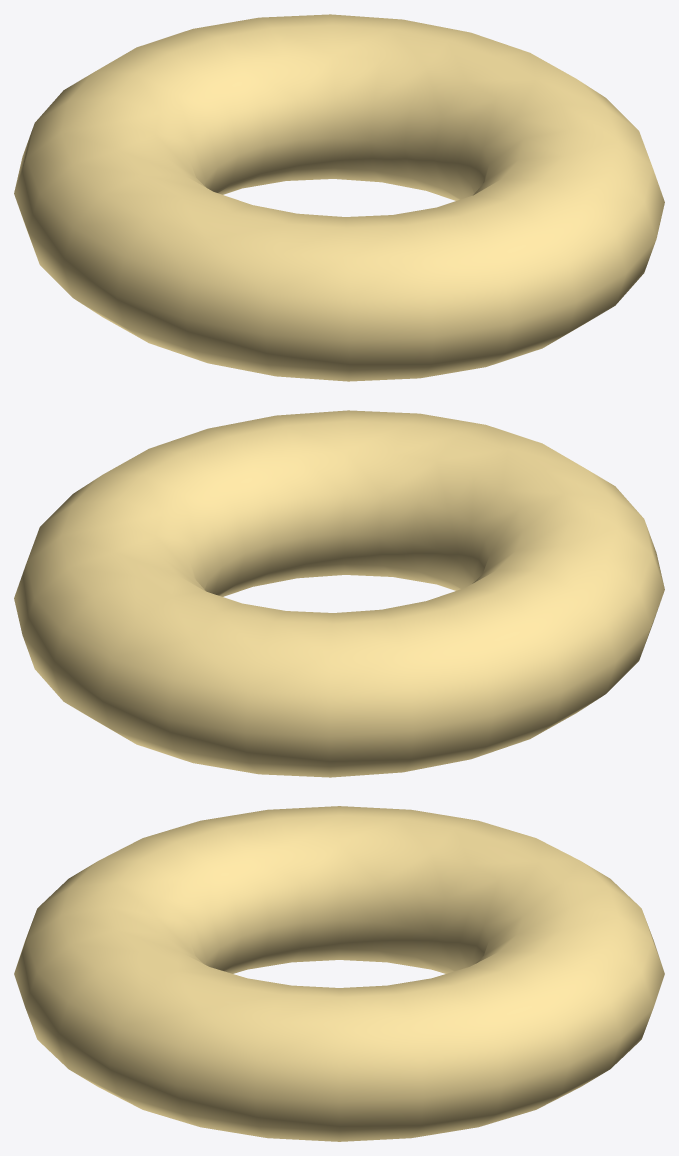
Rendered from Donatu.FBX.
3 renders of one model, top to bottom at view 1: azimuth 30°, elevation 25°; view 2: azimuth 150°, elevation 25°; view 3: azimuth 270°, elevation 25°, orthographic. The views are drawn at different scales.
Visible parts, largest first — view 1: Torus035; view 2: Torus035; view 3: Torus035.
Part boxes in pixels (box(x1,y1,x2,y2)): Torus035: box(14, 14, 664, 381); Torus035: box(14, 410, 664, 777); Torus035: box(14, 806, 664, 1141).
Size of the model in its own units: 14.99 by 16.11 by 3.68.
1 material, 1 textured.
